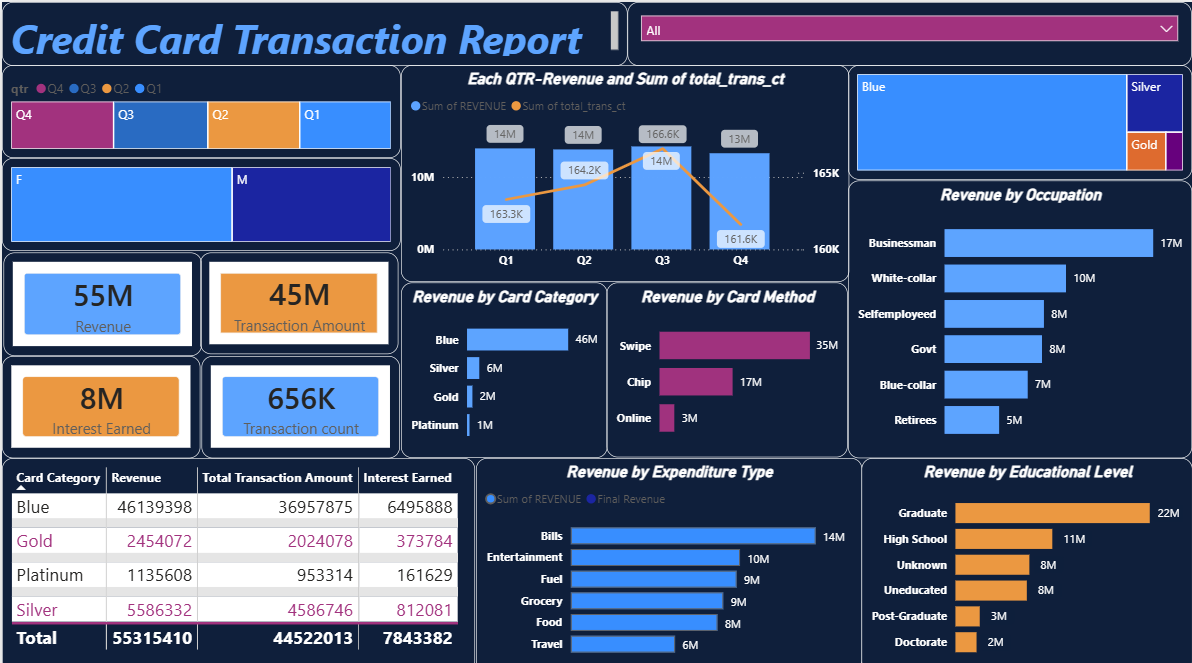

The page's visual inventory and layout, read from the dashboard file:
{"tool":"powerbi","page":{"name":"Page 2","canvas":[1280,720],"ordinal":1},"visuals":[{"type":"textbox","box":[0,0,672.8,68.4],"z":0},{"type":"lineStackedColumnComboChart","title":"Each QTR-Revenue and Sum of total_trans_ct","fields":{"Category":["public cc_detail.qtr"],"Y":["Sum(public cc_detail.REVENUE)"],"Y2":["Sum(public cc_detail.total_trans_ct)"]},"box":[428.3,68.3,481.7,233.3],"z":1000},{"type":"barChart","title":"Revenue by Expenditure Type","fields":{"Y":["Sum(public cc_detail.REVENUE)","public cc_detail.Final Revenue"],"Category":["public cc_detail.exp_type"]},"box":[509,489.9,415.1,229],"z":2000},{"type":"barChart","title":"Revenue by Educational Level","fields":{"Y":["Sum(public cc_detail.REVENUE)"],"Category":["public cust_detail.education_level"]},"box":[924.1,489.9,356.3,230.6],"z":3000},{"type":"barChart","title":"Revenue by Occupation","fields":{"Y":["Sum(public cc_detail.REVENUE)"],"Category":["public cust_detail.customer_job"]},"box":[910,191.7,370,298.3],"z":4000},{"type":"barChart","title":"Revenue by Card Method","fields":{"Y":["Sum(public cc_detail.REVENUE)"],"Category":["public cc_detail.use_chip"]},"box":[650.6,302.2,259.3,187.7],"z":5000},{"type":"barChart","title":"Revenue by Card Category","fields":{"Y":["Sum(public cc_detail.REVENUE)"],"Category":["public cc_detail.card_category"]},"box":[428.3,301.7,221.7,188.3],"z":6000},{"type":"tableEx","title":"DETAILS","fields":{"Values":["public cc_detail.card_category","Sum(public cc_detail.REVENUE)","Sum(public cc_detail.total_trans_amt)","Sum(public cc_detail.interest_earned)"]},"box":[0,489.9,509,230.6],"z":7000},{"type":"slicer","fields":{"Values":["public cc_detail.week_start_date"]},"box":[673.3,0,606.7,68.3],"z":8000},{"type":"treemap","fields":{"Group":["public cc_detail.qtr"],"Values":["Avg(public cc_detail.client_num)"]},"box":[0,68.3,428.3,100],"z":9000},{"type":"treemap","fields":{"Group":["public cust_detail.gender"],"Values":["CountNonNull(public cust_detail.client_num)"]},"box":[0,168.3,428.3,100],"z":10000},{"type":"treemap","fields":{"Group":["public cc_detail.card_category"],"Values":["Sum(public cc_detail.interest_earned)"]},"box":[910,68.3,370,123.3],"z":11000},{"type":"cardVisual","fields":{"Data":["Sum(public cc_detail.interest_earned)"]},"box":[0,380.2,213.1,109.8],"z":12000},{"type":"cardVisual","fields":{"Data":["Sum(public cc_detail.total_trans_ct)"]},"box":[214.7,380.2,213.1,109.8],"z":13000},{"type":"cardVisual","fields":{"Data":["Sum(public cc_detail.total_trans_amt)"]},"box":[213.1,268.8,213,109],"z":14000},{"type":"cardVisual","fields":{"Data":["Sum(public cc_detail.REVENUE)"]},"box":[1.6,268.8,213.1,111.3],"z":15000}]}

Visuals, with their boxes in screenshot pixels (x1, y1, x2, y2), scaled from the page's 1280x720 canvas onto the 1192x663 screenshot:
textbox: (x1=0, y1=0, x2=627, y2=63)
"Each QTR-Revenue and Sum of total_trans_ct" lineStackedColumnComboChart: (x1=399, y1=63, x2=847, y2=278)
"Revenue by Expenditure Type" barChart: (x1=474, y1=451, x2=861, y2=662)
"Revenue by Educational Level" barChart: (x1=861, y1=451, x2=1191, y2=662)
"Revenue by Occupation" barChart: (x1=847, y1=177, x2=1191, y2=451)
"Revenue by Card Method" barChart: (x1=606, y1=278, x2=847, y2=451)
"Revenue by Card Category" barChart: (x1=399, y1=278, x2=605, y2=451)
"DETAILS" tableEx: (x1=0, y1=451, x2=474, y2=662)
slicer - public cc_detail.week_start_date: (x1=627, y1=0, x2=1191, y2=63)
treemap - public cc_detail.qtr x Avg(public cc_detail.client_num): (x1=0, y1=63, x2=399, y2=155)
treemap - public cust_detail.gender x CountNonNull(public cust_detail.client_num): (x1=0, y1=155, x2=399, y2=247)
treemap - public cc_detail.card_category x Sum(public cc_detail.interest_earned): (x1=847, y1=63, x2=1191, y2=176)
cardVisual - Sum(public cc_detail.interest_earned): (x1=0, y1=350, x2=198, y2=451)
cardVisual - Sum(public cc_detail.total_trans_ct): (x1=200, y1=350, x2=398, y2=451)
cardVisual - Sum(public cc_detail.total_trans_amt): (x1=198, y1=248, x2=397, y2=348)
cardVisual - Sum(public cc_detail.REVENUE): (x1=1, y1=248, x2=200, y2=350)
